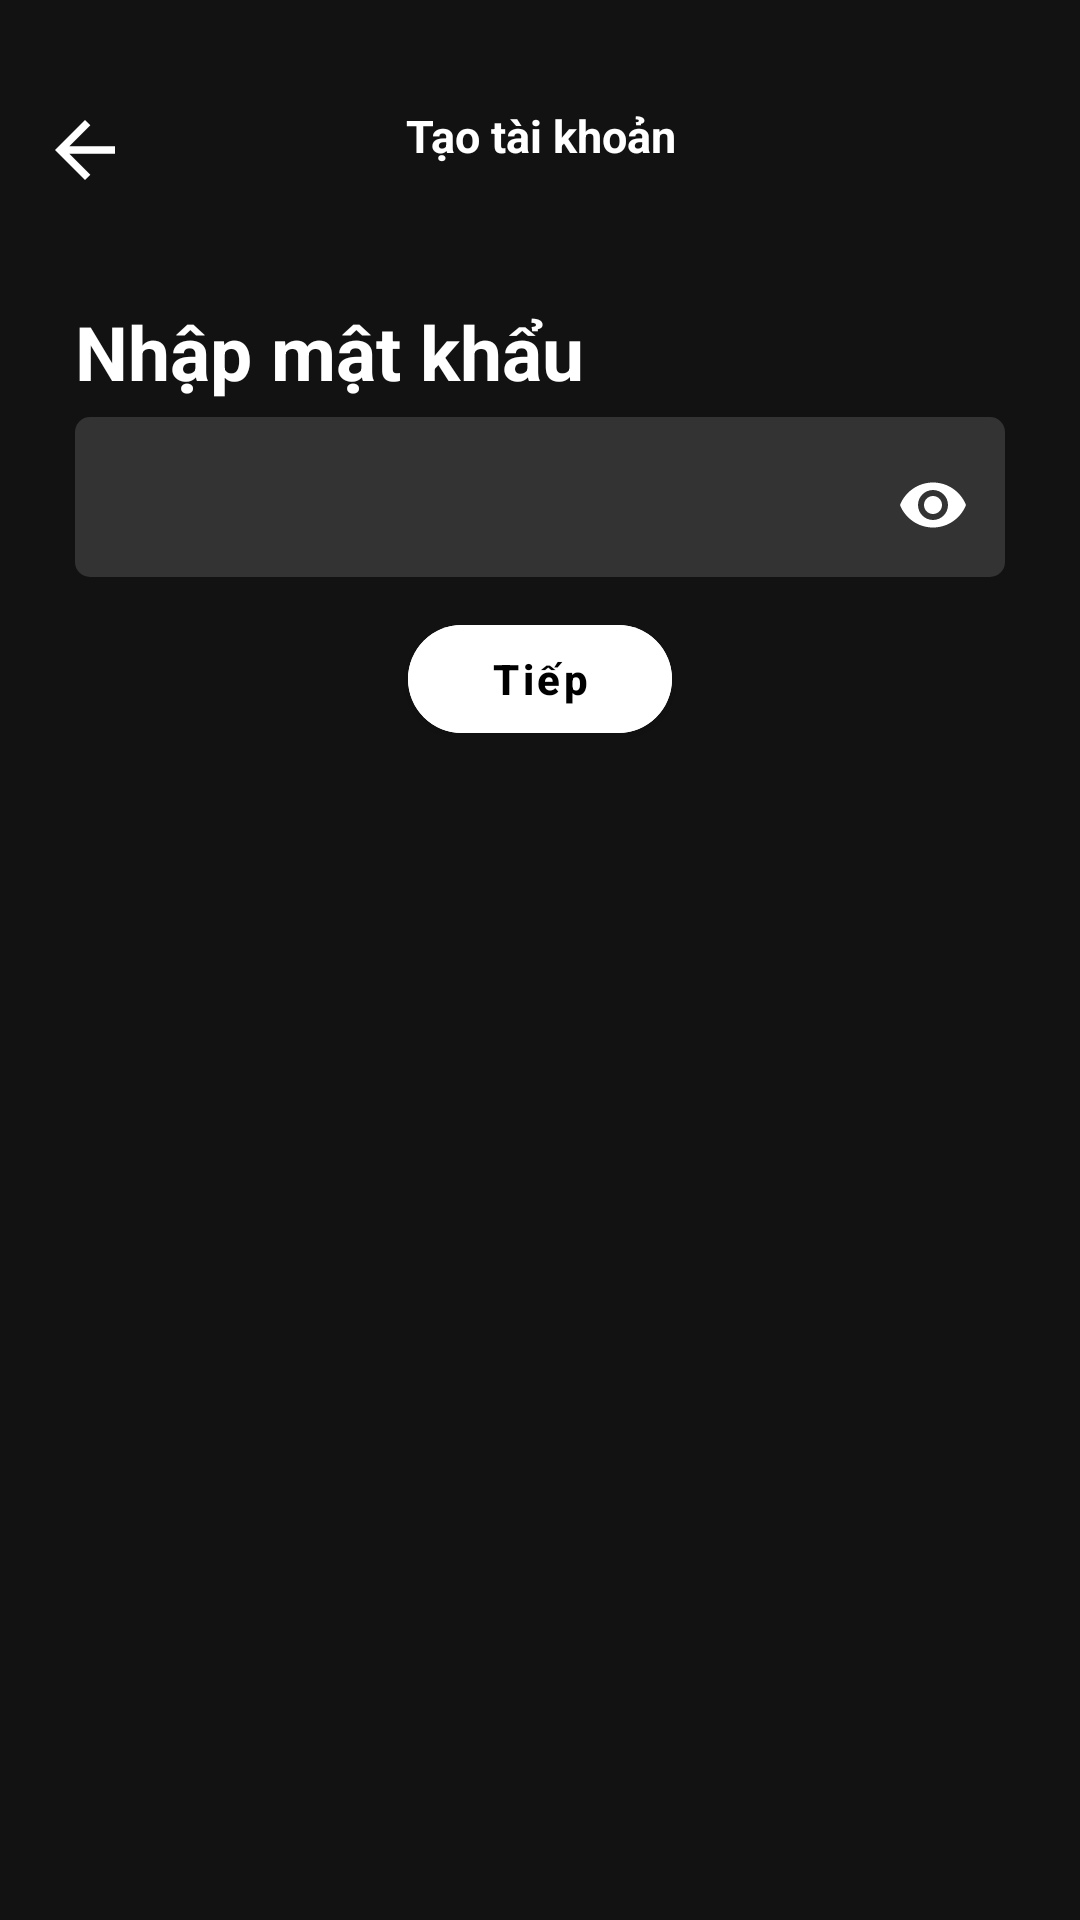

Icon click points for this 1080×1920 phone screenshot, format [x,y]:
arrow back: [85,150]
